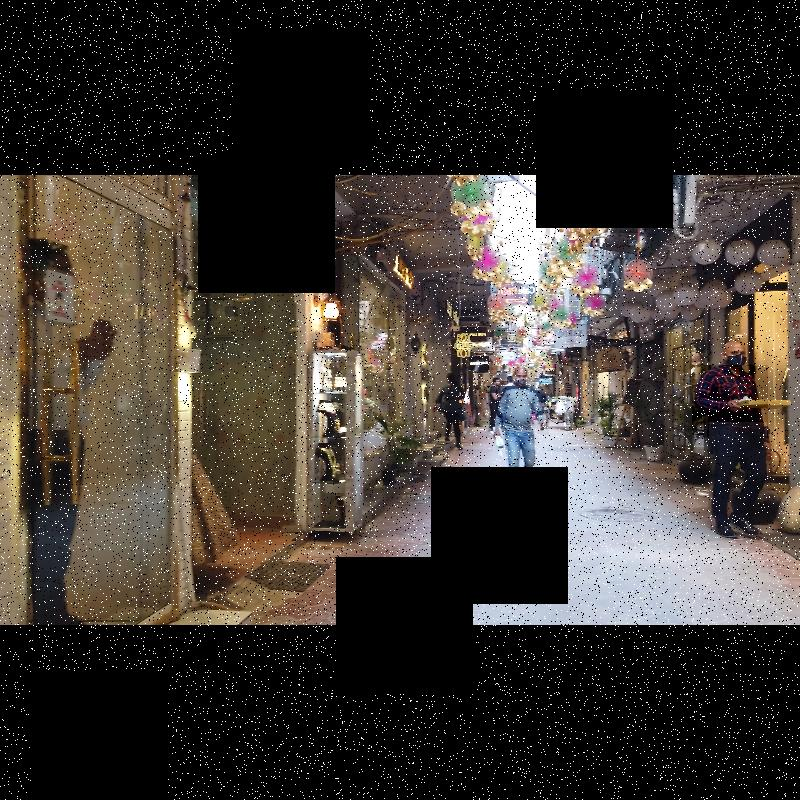Jeans: (507, 430, 537, 488)
Pant: (709, 422, 766, 522)
Shirt: (692, 366, 768, 438), (496, 387, 549, 435)
